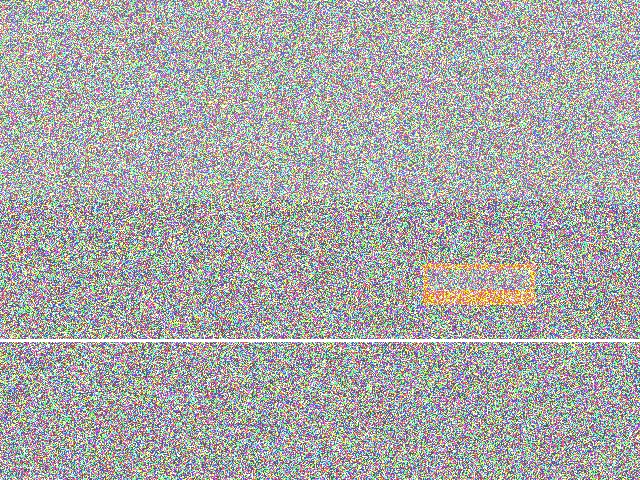motorcycle: (317, 375, 430, 453)
